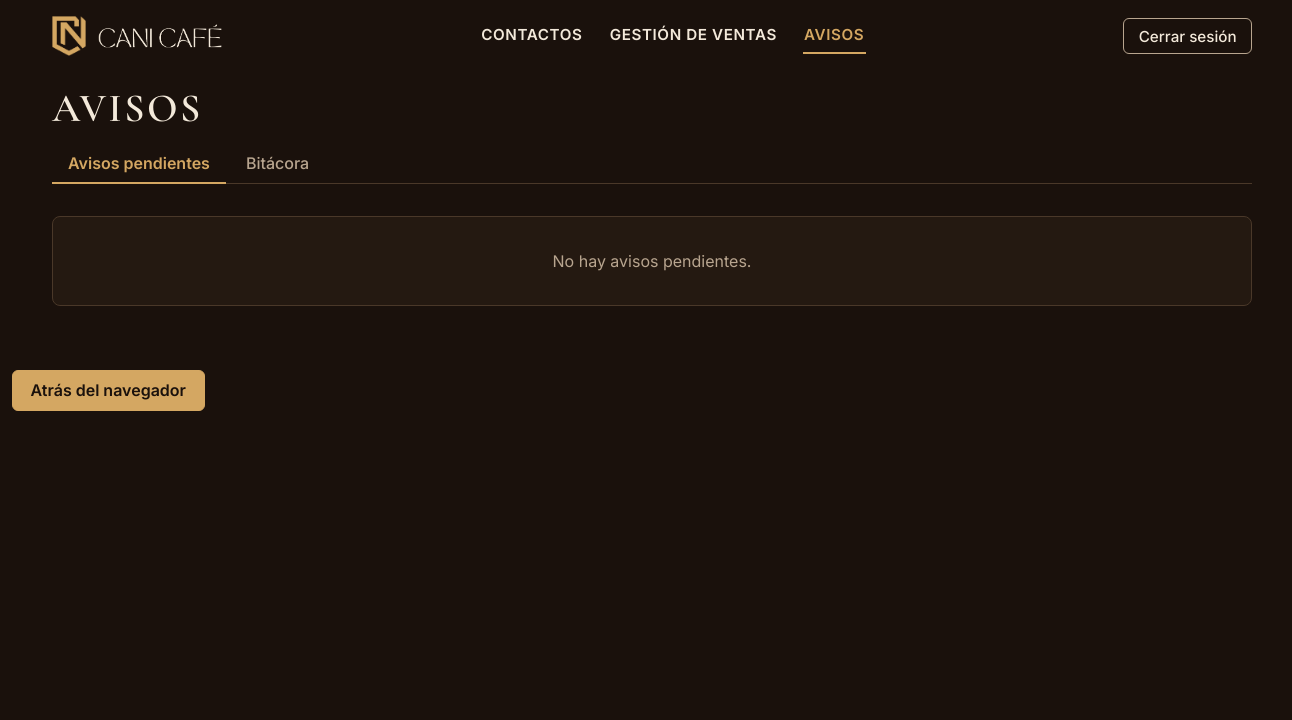
línea de tiempo del contacto › un contacto sin eventos muestra el estado vacío
Click the tab "Bitácora".
click(278, 164)  # box [230,144,325,184]
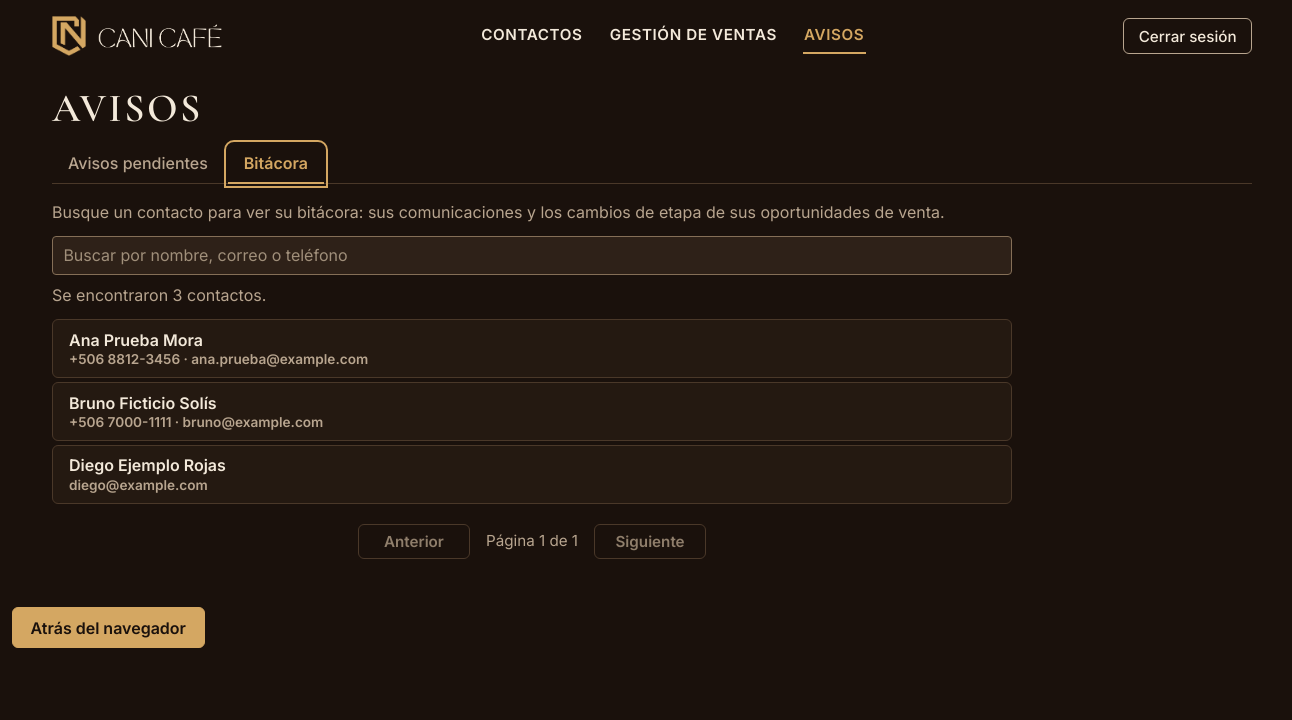
Type "diego" into the search field labelled "Buscar por nombre, correo o teléfono".
click(532, 255); type("diego")  # box [52,236,1012,275]
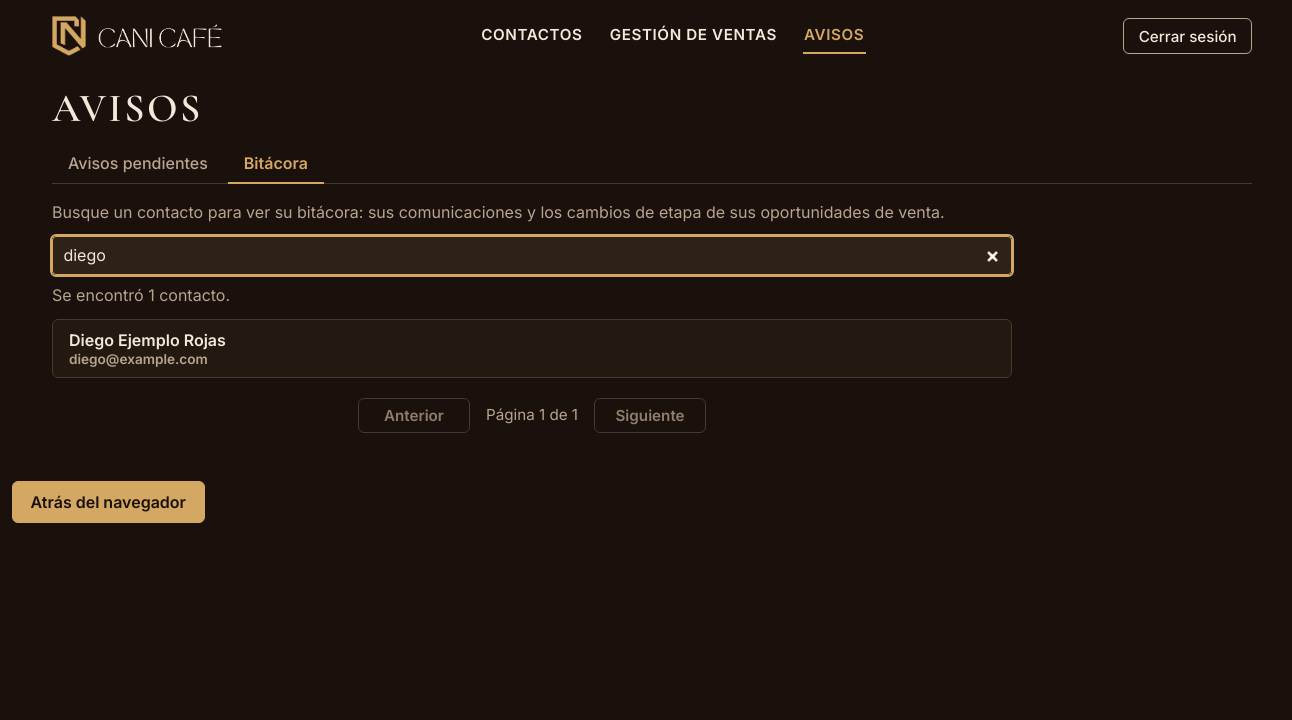
Click the button "Diego Ejemplo Rojas diego@example.com".
click(147, 340)  # box [52,319,1012,378]
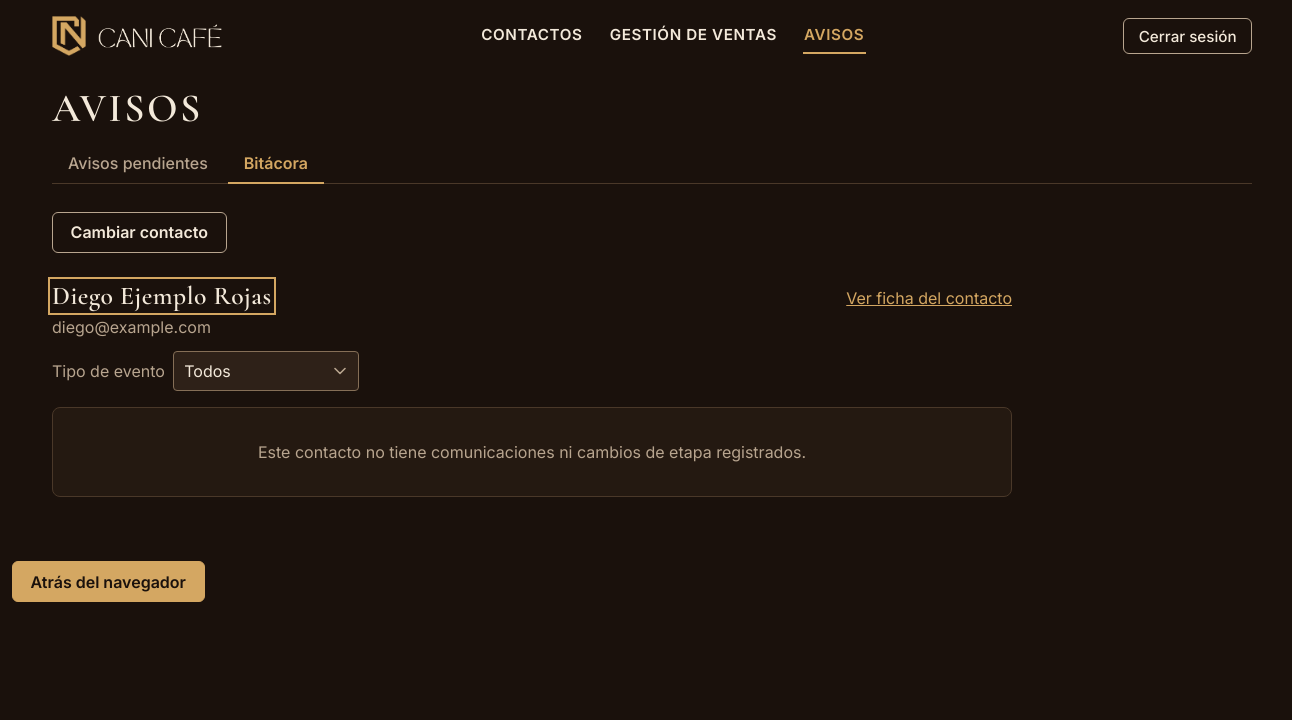
Now the heading "Diego Ejemplo Rojas" is shown, box [52,281,272,312]
Now the text "Este contacto no tiene comunicaciones ni cambios de etapa registrados." is shown, box [52,407,1012,497]
